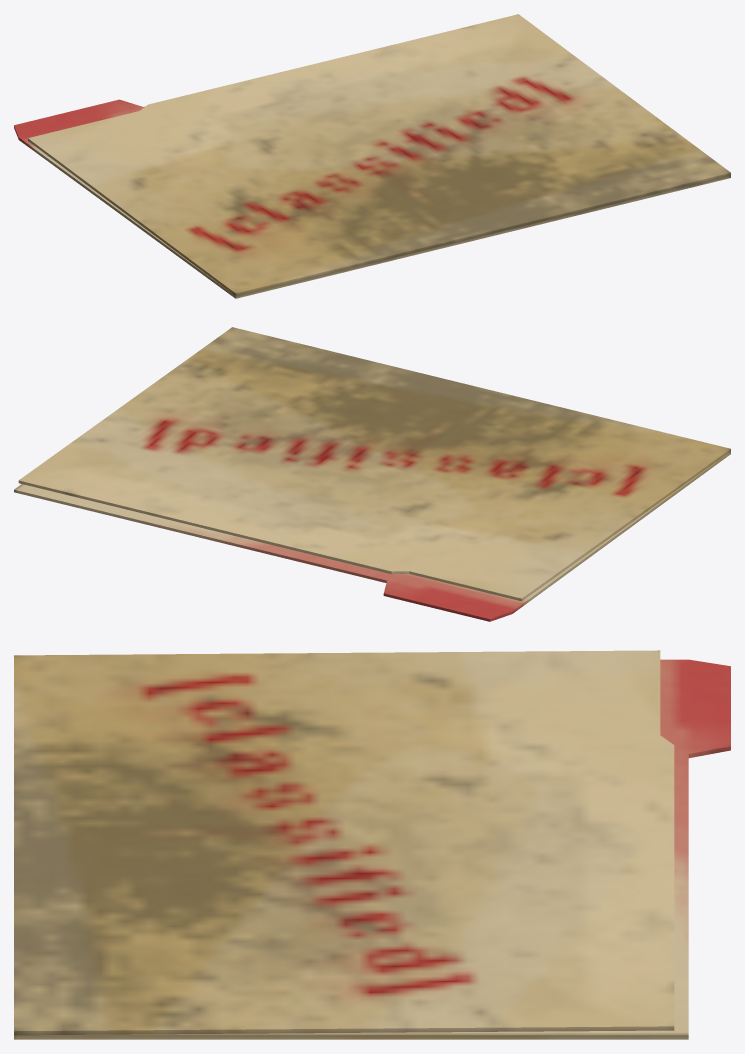
File: File_Asset.fbx
The picture shows the model from 3 angles, top to bottom: view 1: azimuth 30°, elevation 25°; view 2: azimuth 150°, elevation 25°; view 3: azimuth 270°, elevation 25°; orthographic projection. The views are drawn at different scales.
Parts seen in each view (by area): view 1: File; view 2: File; view 3: File.
Part boxes in pixels (x1,y1,x2,y2): File: (14,14,730,298); File: (14,327,730,621); File: (14,650,730,1039).
Bounding box in the file's own units: 29 × 23.38 × 0.4773.
1 material, 1 textured.
